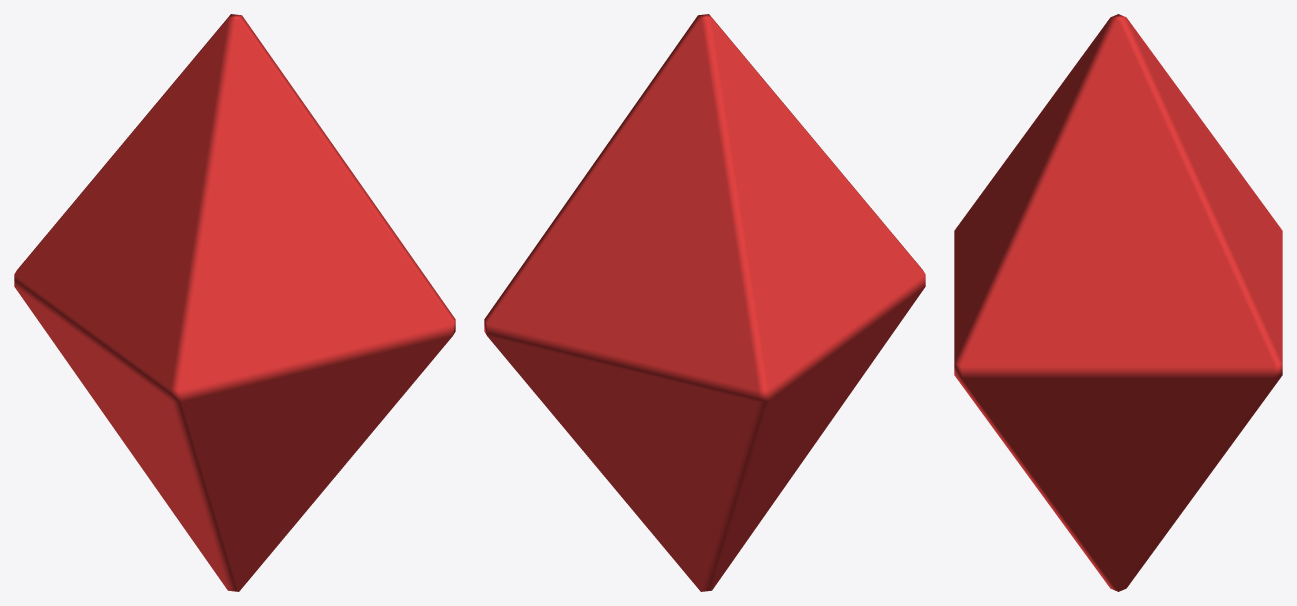
Rendered from crystal2-3notex.fbx.
3 views of the same model, side by side, from view 1: azimuth 30°, elevation 25°; view 2: azimuth 150°, elevation 25°; view 3: azimuth 270°, elevation 25° (orthographic).
Parts seen in each view (by area): view 1: crystal2-3notex; view 2: crystal2-3notex; view 3: crystal2-3notex.
Boxes of the visible parts, x1,y1,x2,y2 form: crystal2-3notex: [14, 14, 455, 591]; crystal2-3notex: [484, 14, 925, 591]; crystal2-3notex: [954, 14, 1282, 591].
Size of the model in its own units: 0.2223 by 0.4262 by 0.2223.
